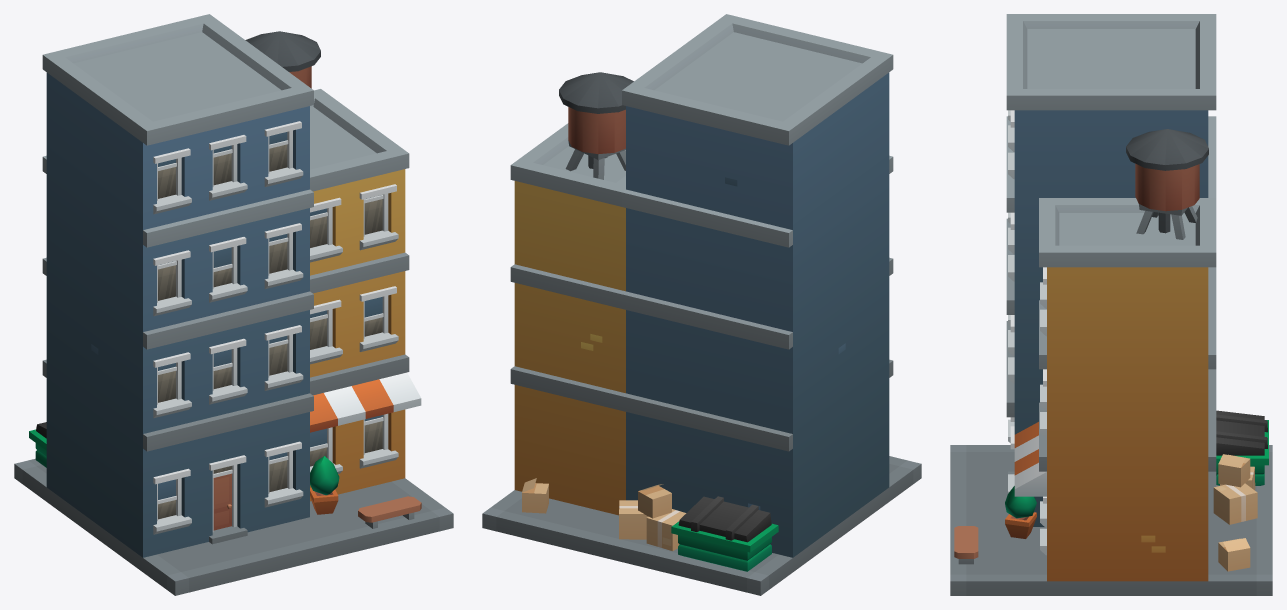
The model's file is building_h.glb.
3 renders of one model, left to right at view 1: azimuth 30°, elevation 25°; view 2: azimuth 150°, elevation 25°; view 3: azimuth 270°, elevation 25°, orthographic.
Parts seen in each view (by area): view 1: building_H; view 2: building_H; view 3: building_H.
Boxes of the visible parts, box(x1,y1,x2,y2) form: building_H: box(14, 14, 453, 595); building_H: box(482, 14, 921, 595); building_H: box(950, 14, 1272, 595).
Size of the model in its own units: 9.03 by 13.72 by 9.
Materials: 1 (1 with a texture image).
